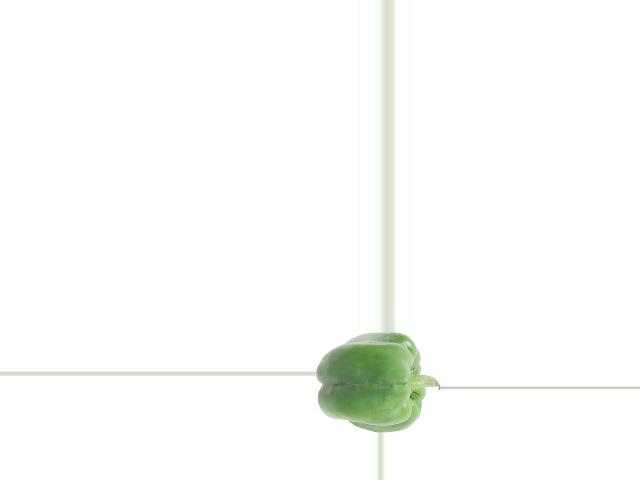bell_pepper: (315, 334, 438, 432)
